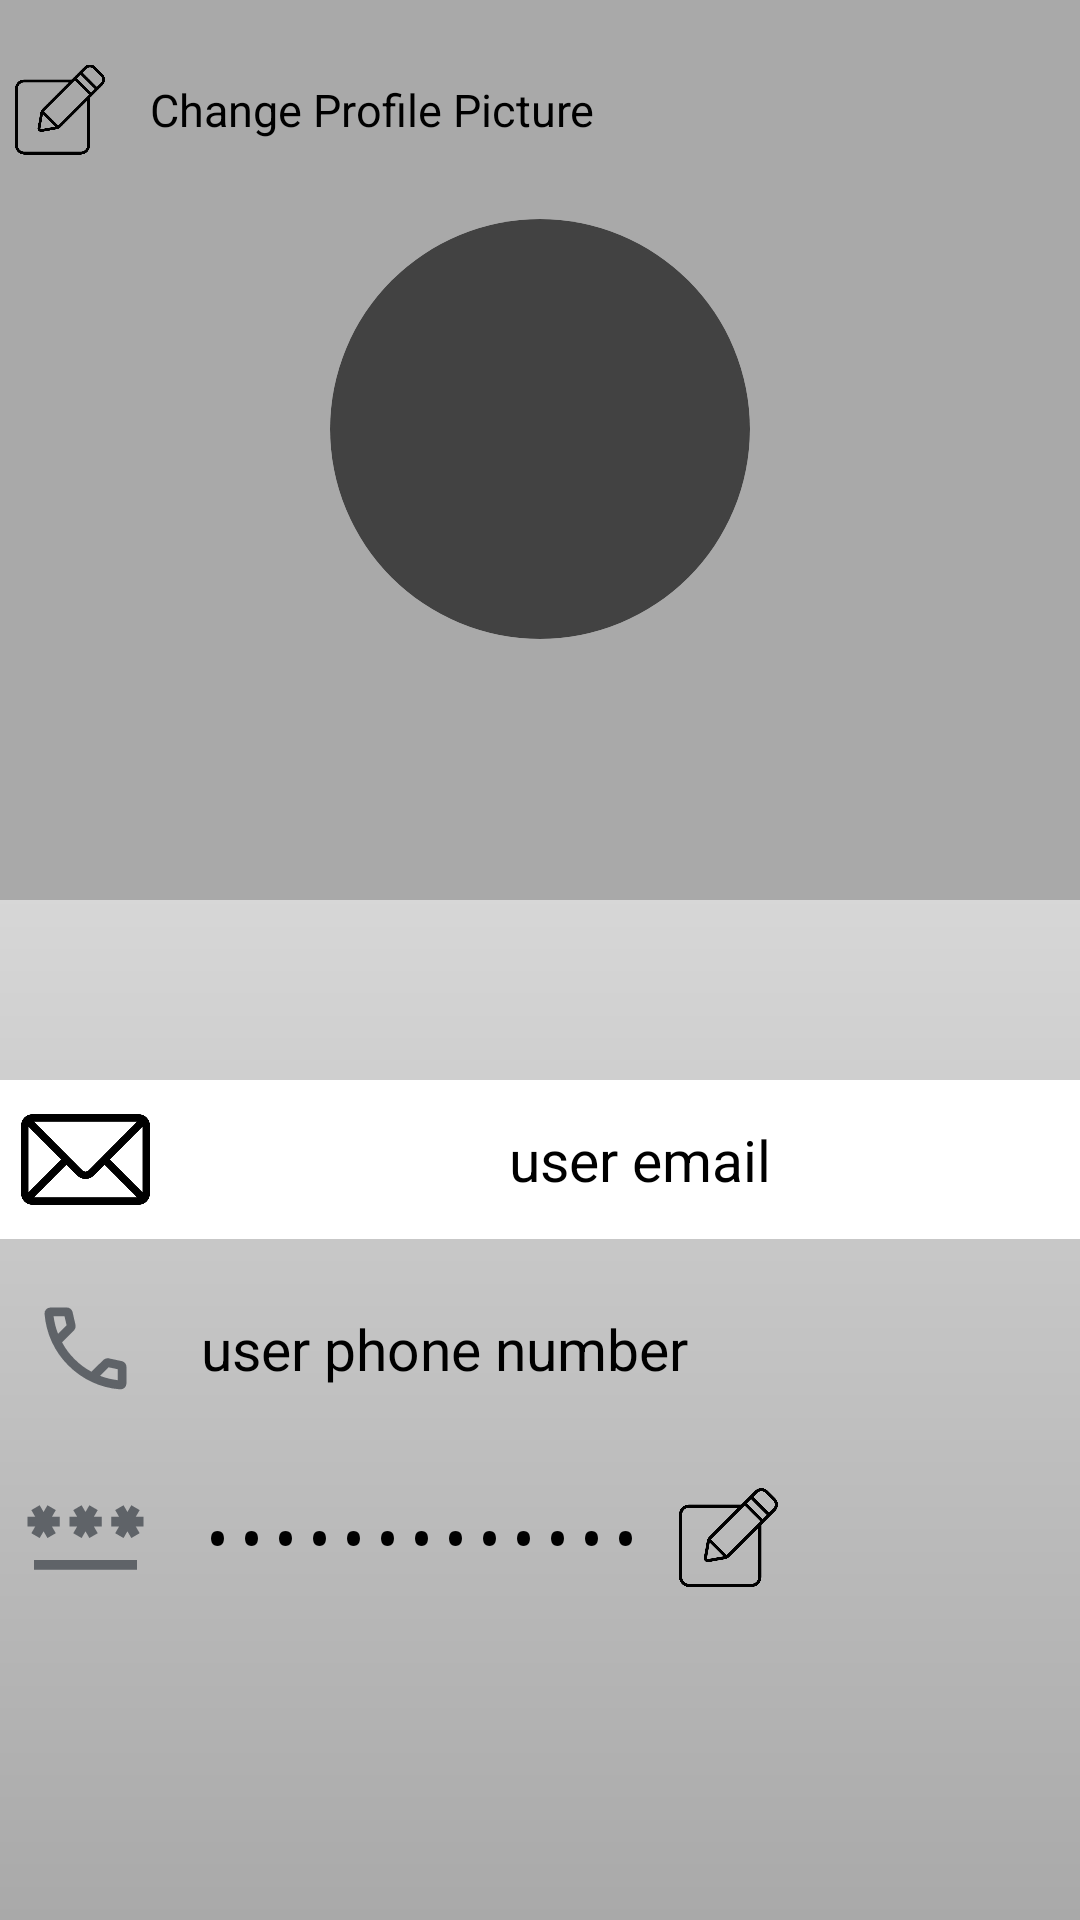

Screen size 1080 × 1920. Icon name, then its box in pixels as [x1=x1, y1=y1, x2=x2, y2=y2]:
edit juicy fish: [x1=15, y1=65, x2=105, y2=155], [x1=679, y1=1488, x2=778, y2=1587]
email freepic: [x1=21, y1=1114, x2=150, y2=1205]
